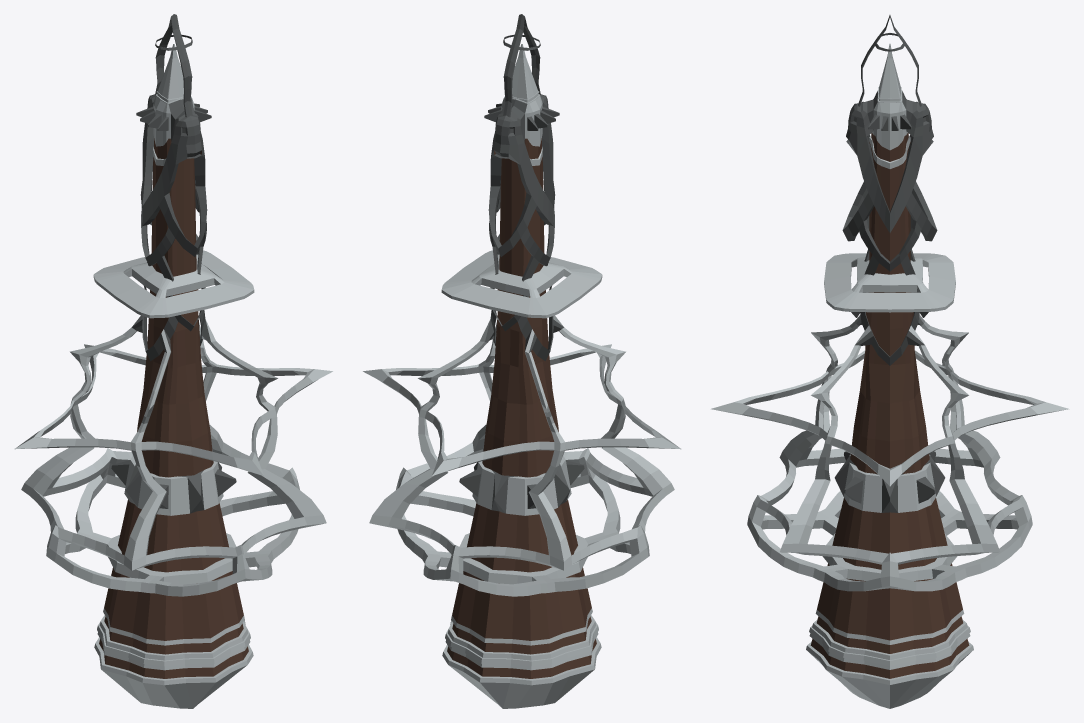
The model's file is bossMonument.fbx.
The picture shows the model from 3 angles, left to right: view 1: azimuth 30°, elevation 25°; view 2: azimuth 150°, elevation 25°; view 3: azimuth 270°, elevation 25°; orthographic projection.
Parts seen in each view (by area): view 1: BossMonument; view 2: BossMonument; view 3: BossMonument.
Boxes of the visible parts, <box> form: BossMonument: <box>14,14,332,708</box>; BossMonument: <box>363,14,681,708</box>; BossMonument: <box>711,15,1068,708</box>.
Bounding box in the file's own units: 859 × 1750 × 840.
